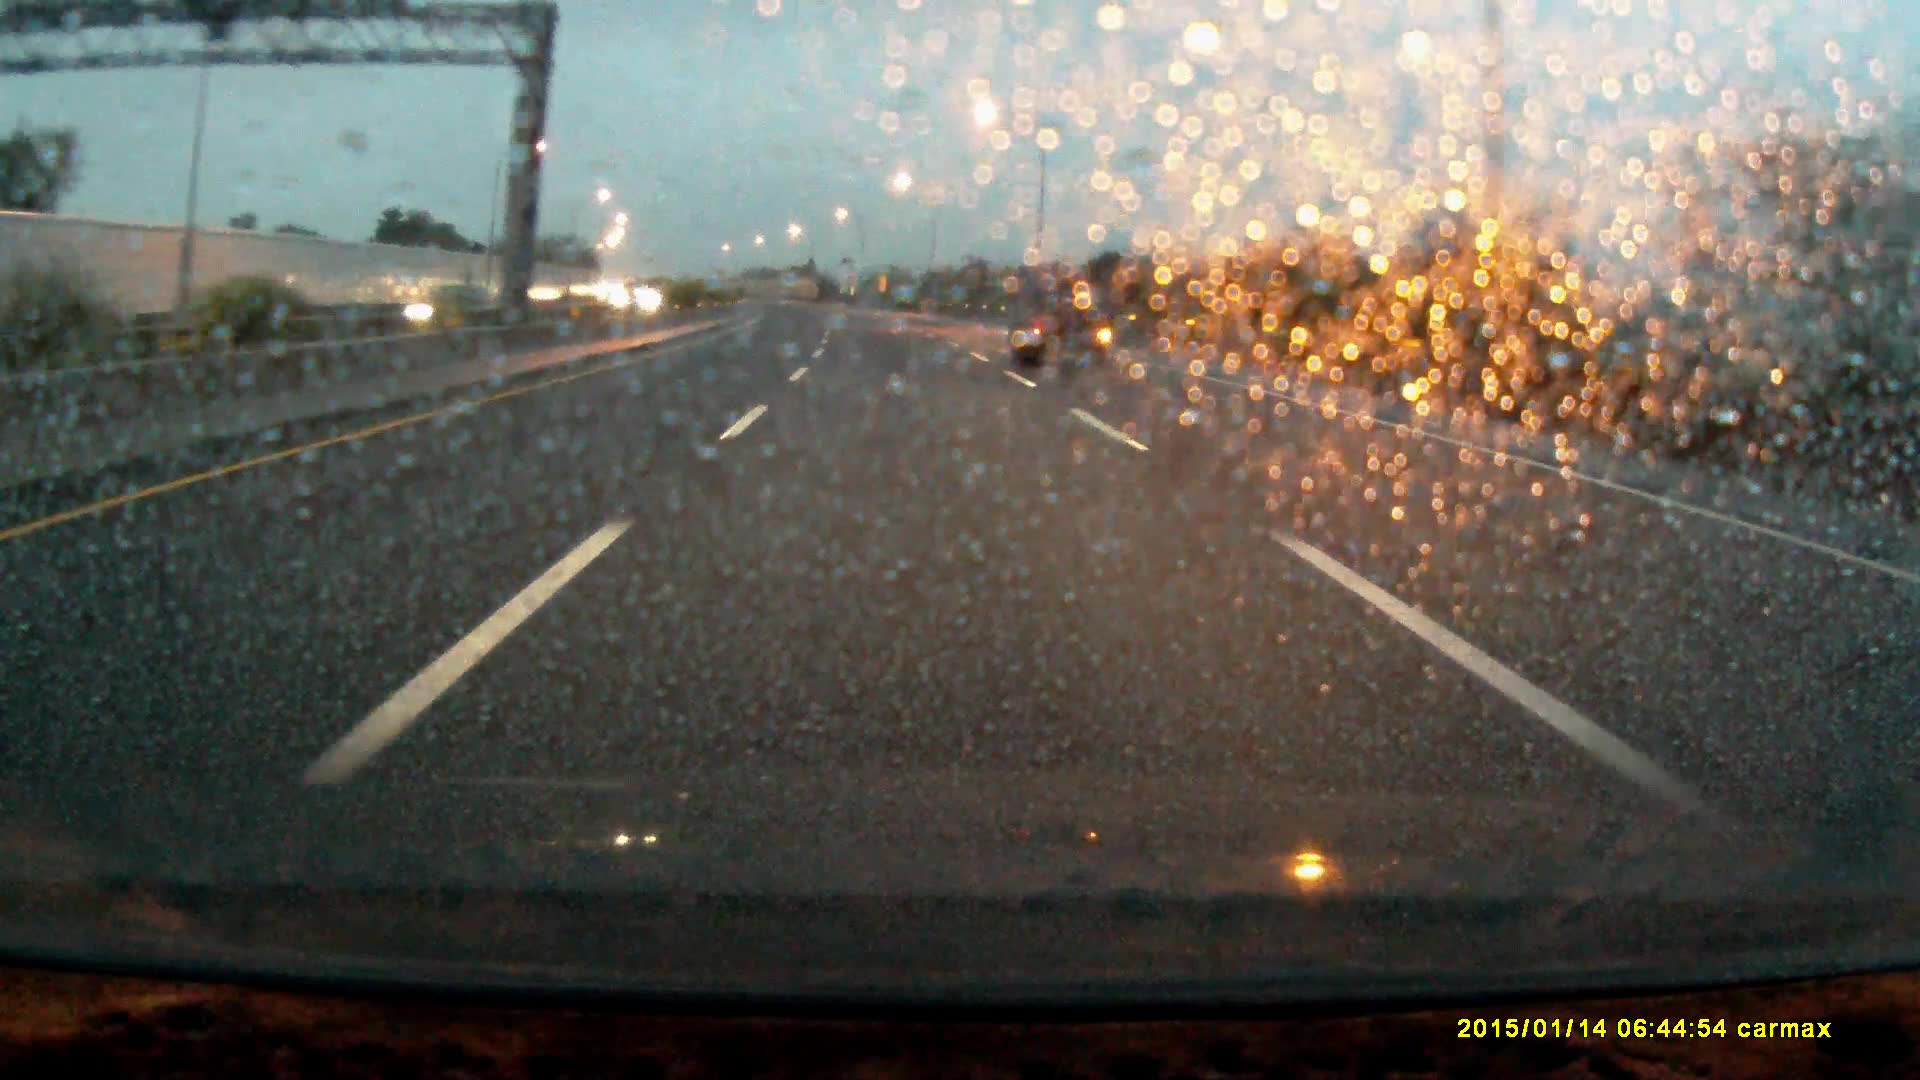vehicle: (1011, 276, 1106, 371)
